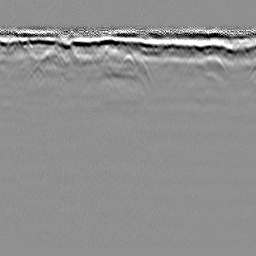cavity: (119, 51, 137, 69)
